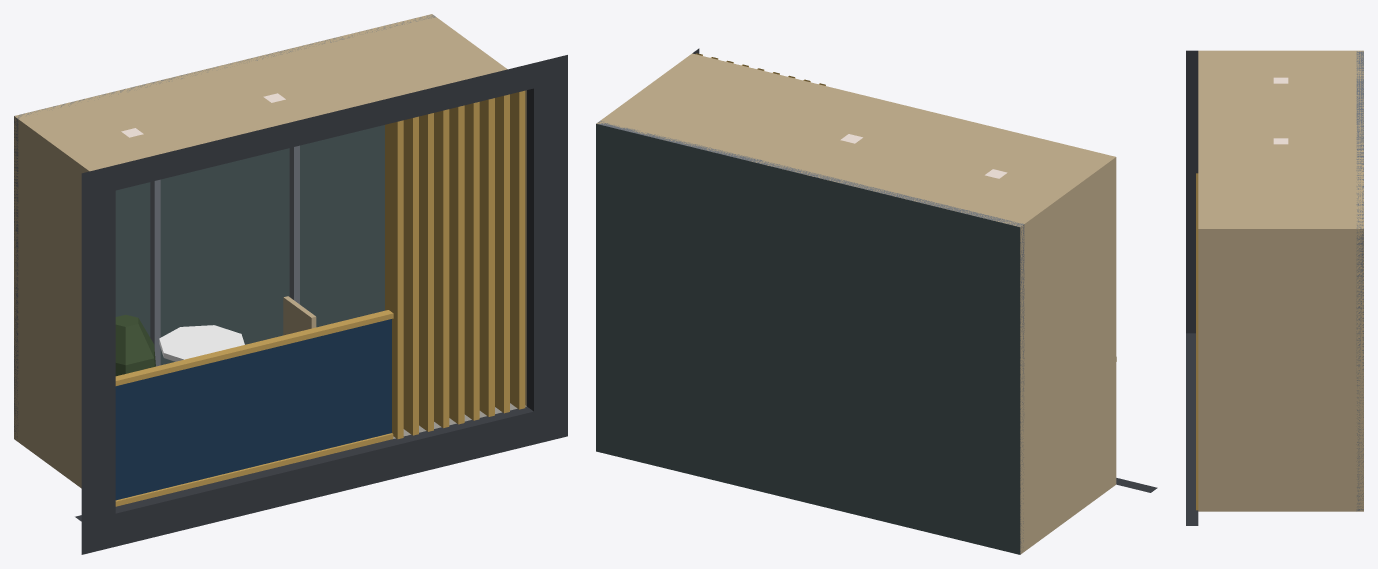
File: mid-w1_close.fbx
The picture shows the model from 3 angles, left to right: view 1: azimuth 30°, elevation 25°; view 2: azimuth 150°, elevation 25°; view 3: azimuth 270°, elevation 25°; orthographic projection. The views are drawn at different scales.
Parts seen in each view (by area): view 1: a2019/750/mid-w1_close; view 2: a2019/750/mid-w1_close; view 3: a2019/750/mid-w1_close.
Boxes of the visible parts, box(x1,y1,x2,y2) form: a2019/750/mid-w1_close: box(14, 14, 567, 554); a2019/750/mid-w1_close: box(596, 48, 1157, 554); a2019/750/mid-w1_close: box(1186, 50, 1363, 525).
Size of the model in its own units: 4 by 3 by 1.45.
